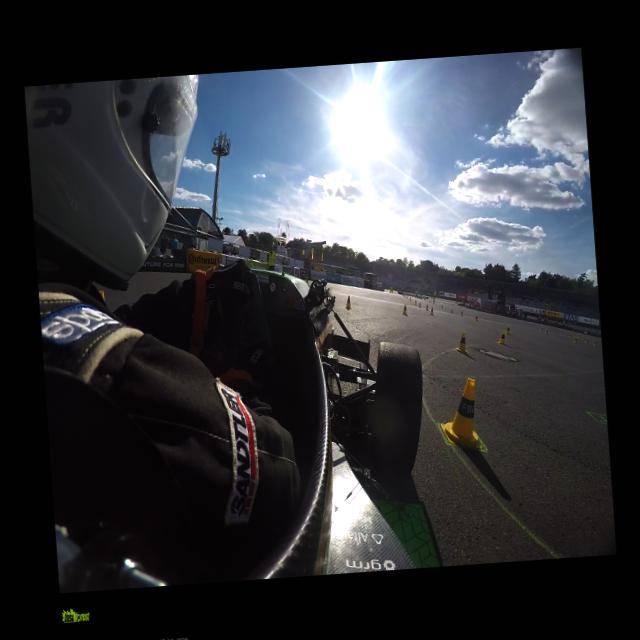yellow_cone: (440, 376, 480, 449), (454, 330, 469, 356), (496, 330, 506, 345), (344, 294, 351, 308), (401, 304, 406, 316), (504, 325, 510, 335), (428, 306, 434, 315), (572, 336, 578, 344), (474, 314, 478, 322), (594, 340, 598, 346), (544, 329, 548, 335), (539, 326, 543, 332), (305, 276, 308, 284), (461, 310, 464, 316), (585, 338, 588, 343), (450, 308, 452, 314), (418, 302, 420, 308), (426, 304, 428, 310), (409, 296, 411, 300), (414, 300, 416, 304), (440, 304, 442, 308)
